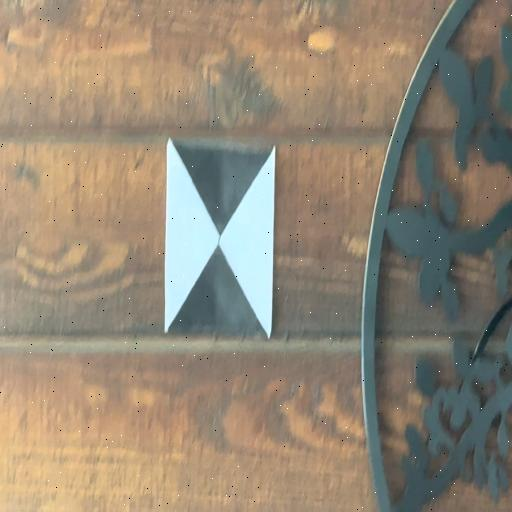target: (167, 140, 272, 338)
